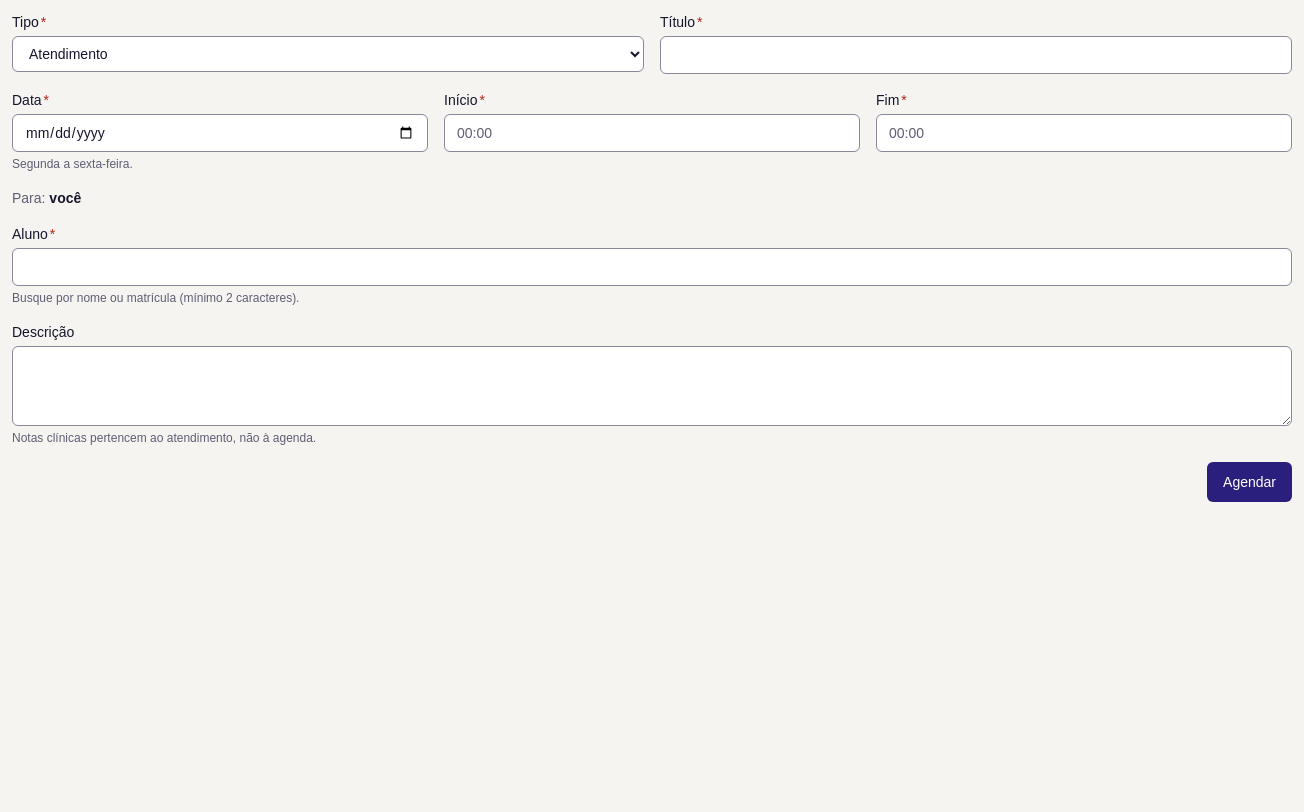
Test: CompromissoForm › Tipo_atendimento_nao_mostra_participantes
The image size is (1304, 812).
expect the checkbox labelled "Toda a equipe" is not shown: met
Select "Reunião de equipe" in the dropdown labelled "Tipo*" at x=328, y=54, box x1=12 y1=36 x2=644 y2=72
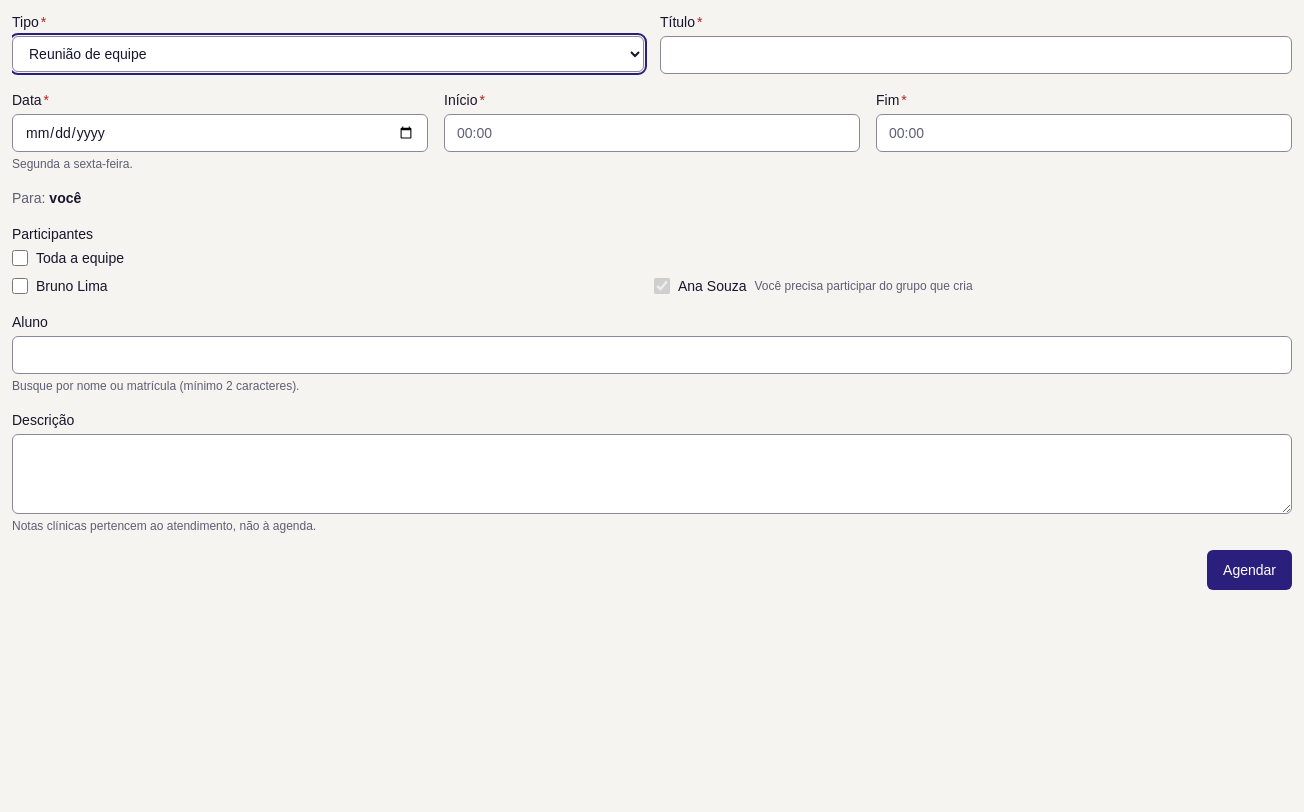
expect the checkbox labelled "Toda a equipe" is shown: met, box x1=12 y1=250 x2=28 y2=266
Select "Atendimento" in the dropdown labelled "Tipo*" at x=328, y=54, box x1=12 y1=36 x2=644 y2=72
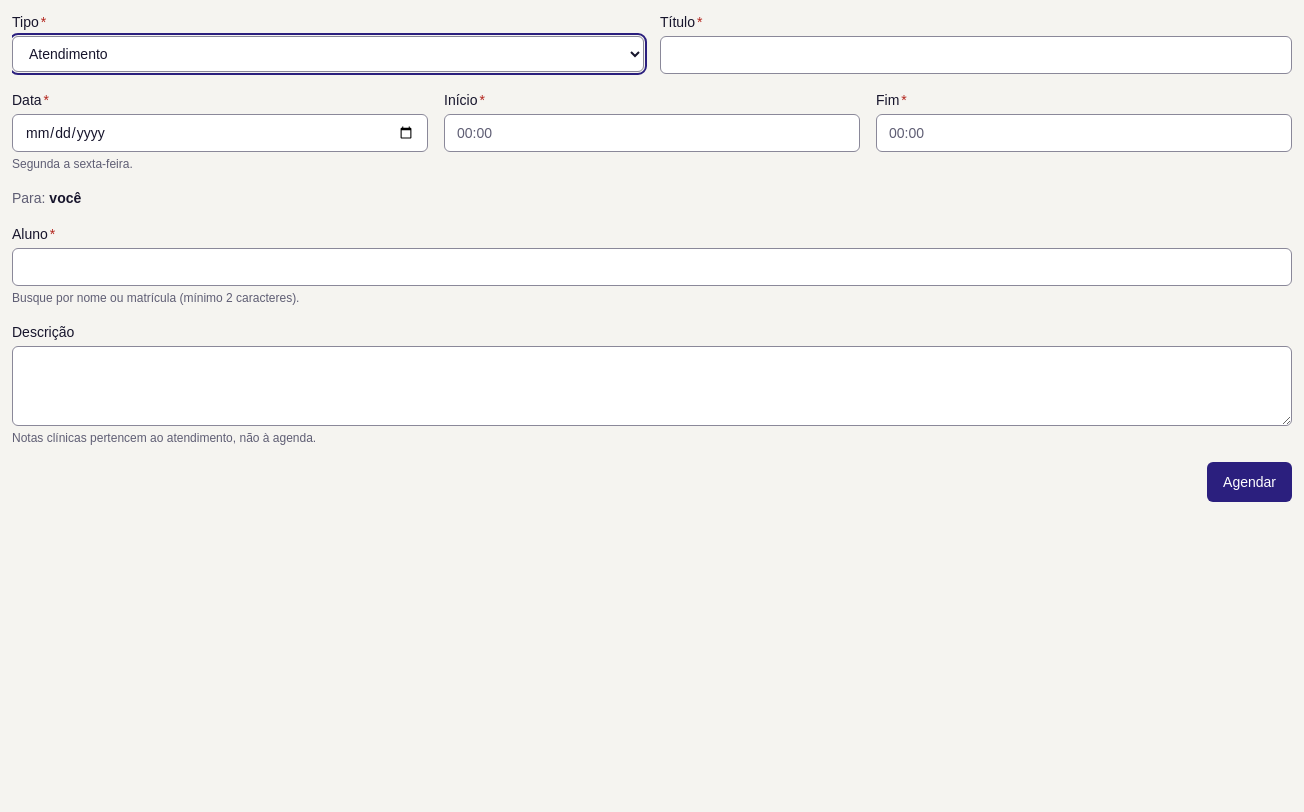
expect the label "Toda a equipe" is gone: met
